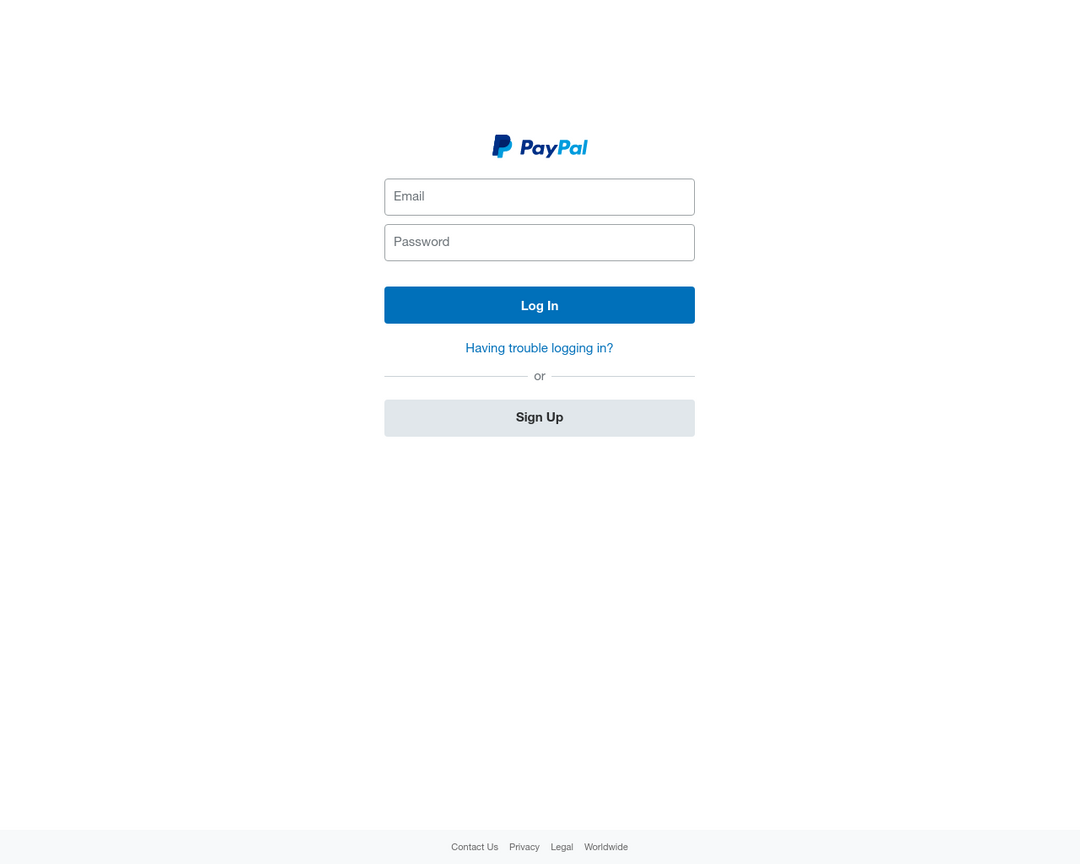Paypal: (486, 127, 590, 166)
